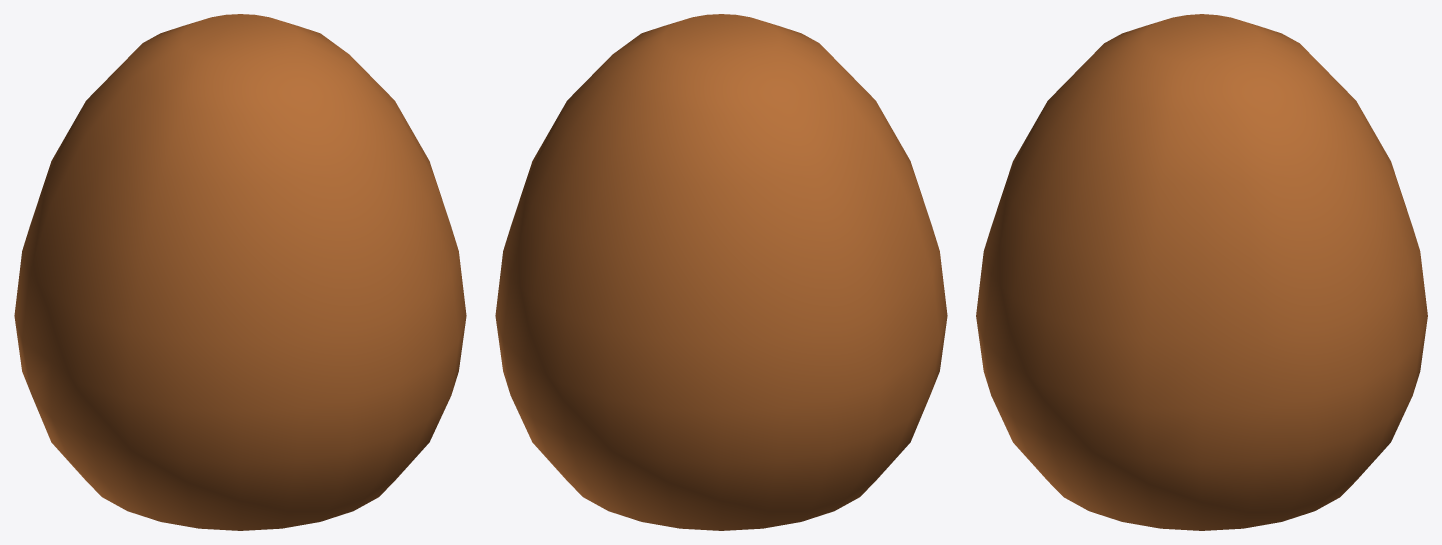
Rendered from character_dog.obj.
The picture shows the model from 3 angles, left to right: view 1: azimuth 30°, elevation 25°; view 2: azimuth 150°, elevation 25°; view 3: azimuth 270°, elevation 25°; orthographic projection.
Parts seen in each view (by area): view 1: character_dog_Cube.029; view 2: character_dog_Cube.029; view 3: character_dog_Cube.029.
Part boxes in pixels (x1,y1,x2,y2): character_dog_Cube.029: (14,14,466,530); character_dog_Cube.029: (495,14,947,530); character_dog_Cube.029: (976,14,1427,530).
Size of the model in its own units: 0.6761 by 0.7256 by 0.7.
